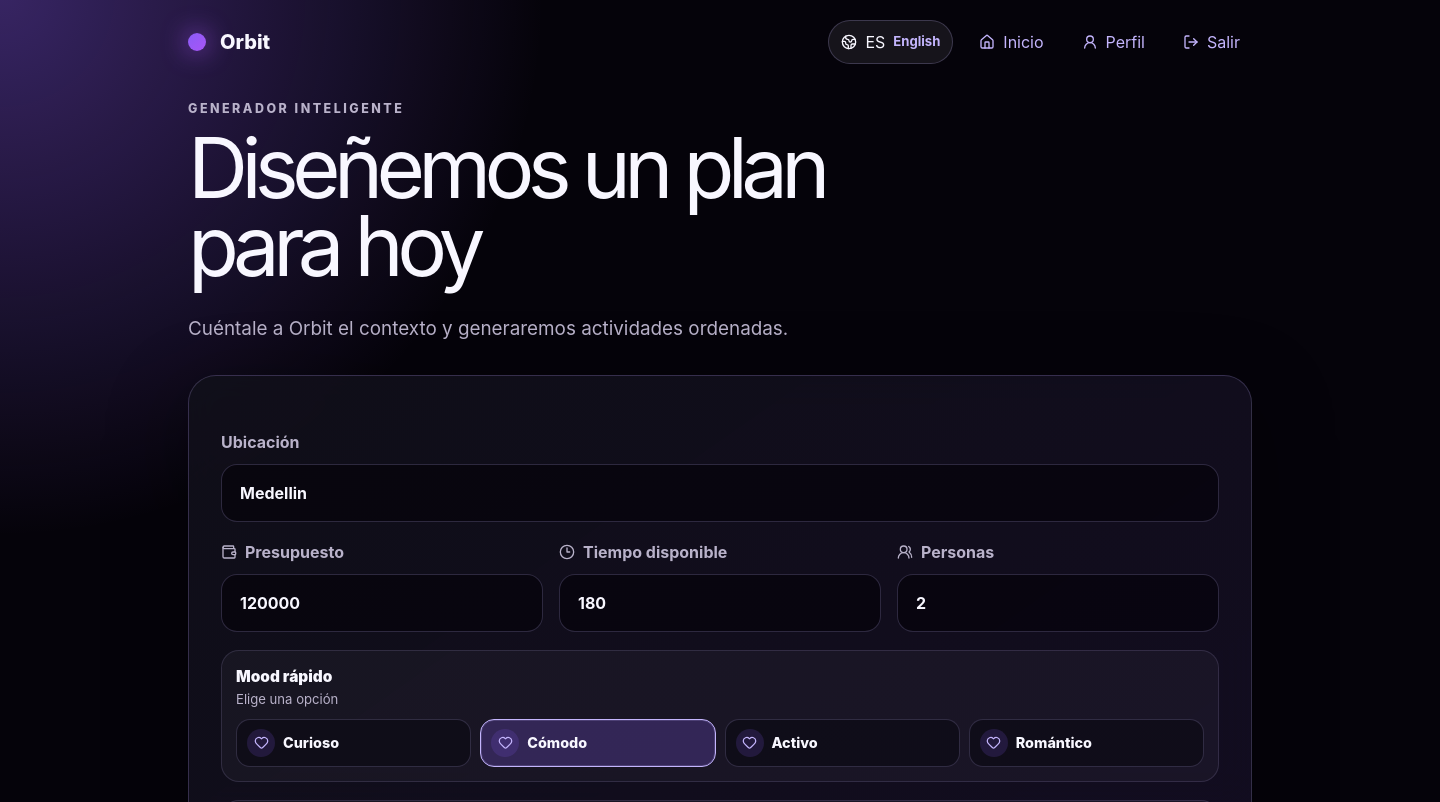
Orbit web foundation › shows plan context validation errors
Clear the field showing "Medellin" at (720, 493), box x1=221 y1=464 x2=1219 y2=522
(page scrolled)
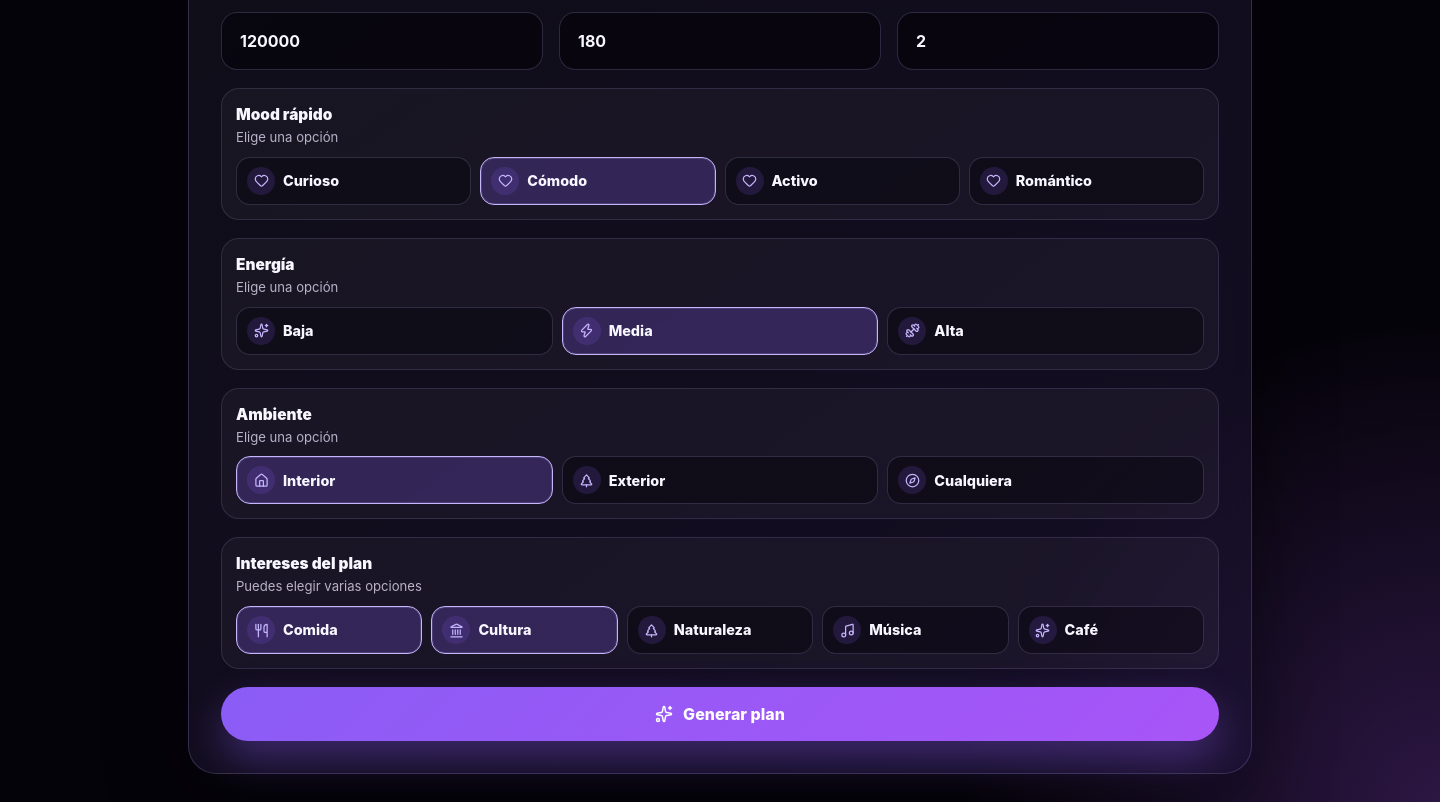
Click the button "Generar plan".
click(720, 714)  # box x1=221 y1=687 x2=1219 y2=741
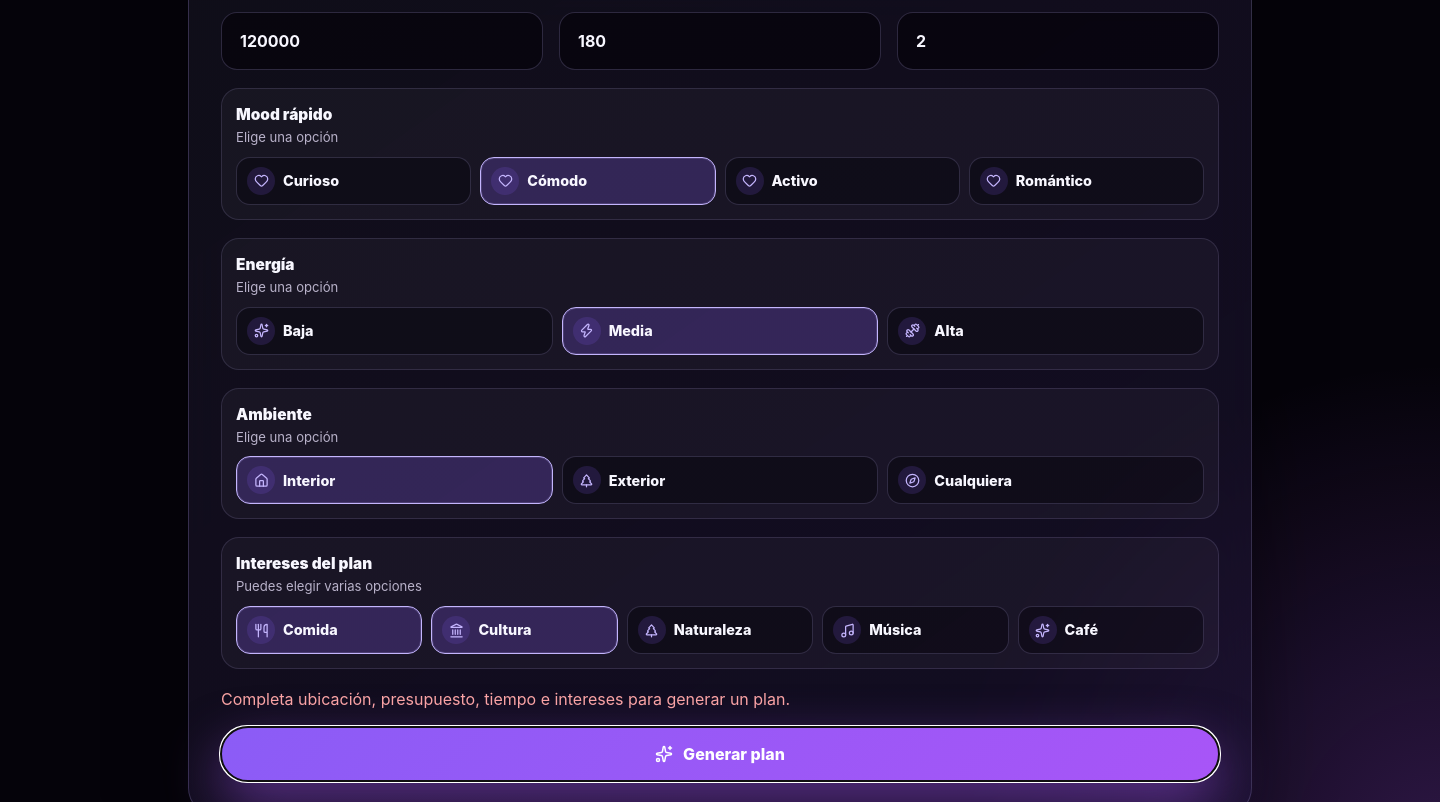
Check: the message shows "Completa ubicación", box x1=221 y1=689 x2=790 y2=709
